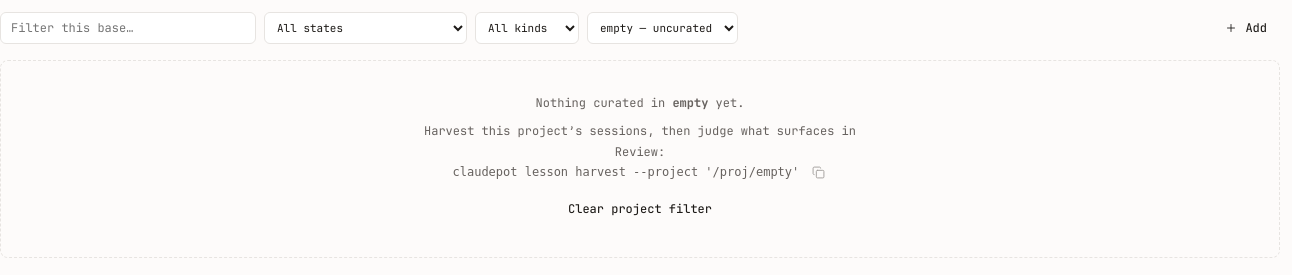
Test: KnowView › a deep-link to an uncurated project names it and offers a way out
Expected: the text "Nothing curated in empty yet." is shown, [536,95,744,111]
Expected: the dropdown named "Project filter" shows "empty — uncurated", [587,12,738,44]
# And there is an explicit way back to the whole base.
Click the button "Clear project filter" at point(640, 210), box [555,195,725,225]
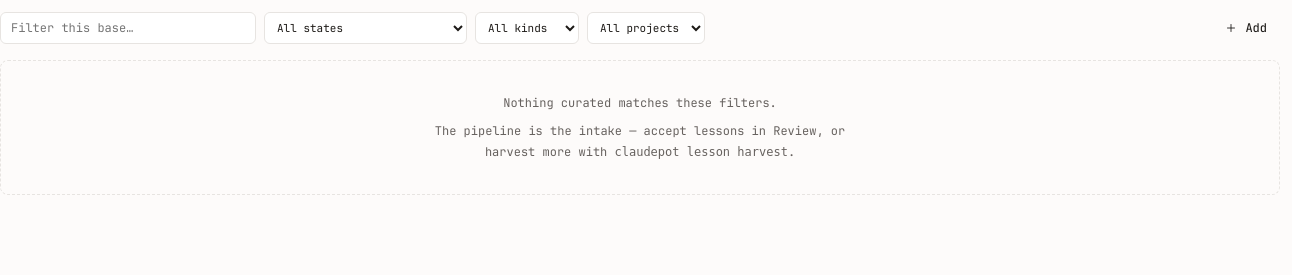
Now the dropdown named "Project filter" shows "All projects", box [587,12,705,44]
